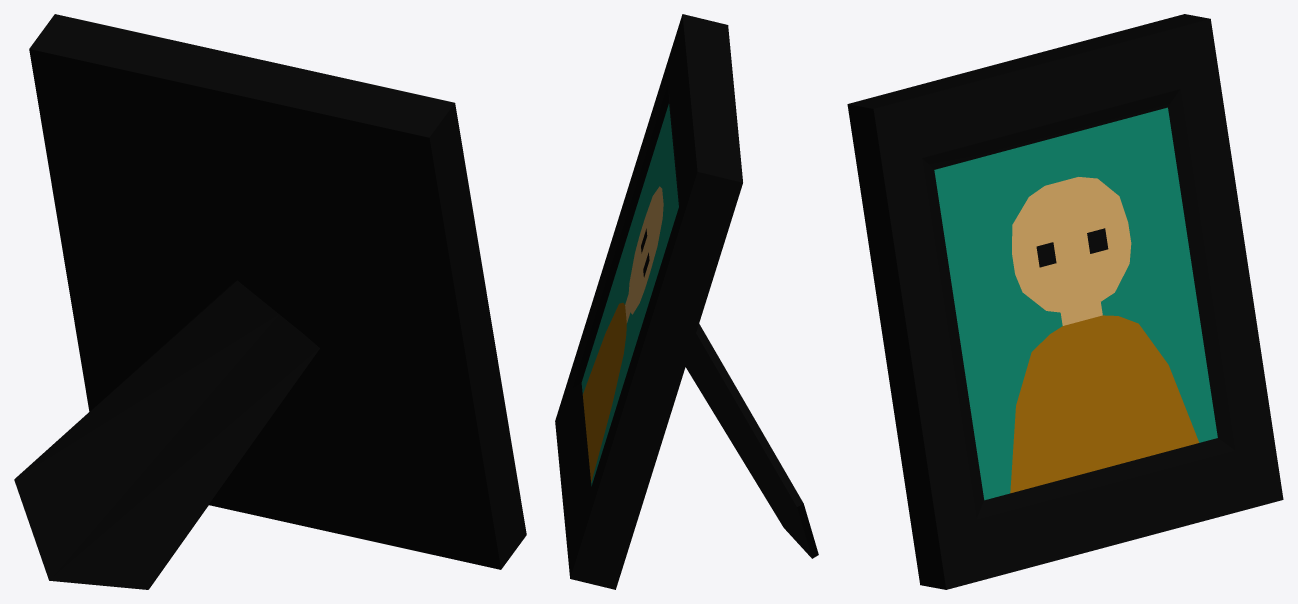
File: Painting-Portrait_01.fbx
The picture shows the model from 3 angles, left to right: view 1: azimuth 30°, elevation 25°; view 2: azimuth 150°, elevation 25°; view 3: azimuth 270°, elevation 25°; orthographic projection. The views are drawn at different scales.
Visible parts, largest first — view 1: Painting-Portrait_01; view 2: Painting-Portrait_01; view 3: Painting-Portrait_01.
Boxes of the visible parts, <box> form: Painting-Portrait_01: <box>14,14,526,589</box>; Painting-Portrait_01: <box>555,14,818,589</box>; Painting-Portrait_01: <box>847,14,1283,589</box>.
Bounding box in the file's own units: 0.2566 × 0.304 × 0.2699.
